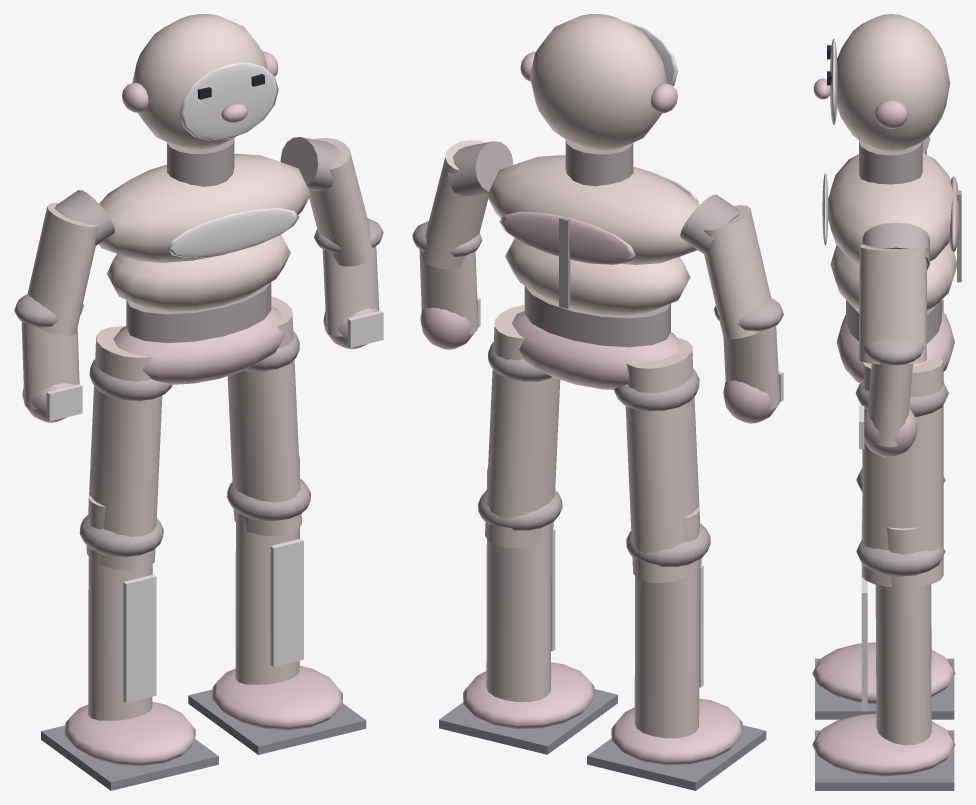
The model's file is CMU3DDisplayMannequinCloud.glb.
The picture shows the model from 3 angles, left to right: view 1: azimuth 30°, elevation 25°; view 2: azimuth 150°, elevation 25°; view 3: azimuth 270°, elevation 25°; orthographic projection.
Visible parts, largest first — view 1: wide shoulder torso, left molded upper leg, right molded upper leg, display head molded cranium, lower molded torso, left molded lower leg, right molded lower leg, molded pelvis lower shape, left upper molded arm, right broad static display foot, left broad static display foot, front face plane (+20 smaller); view 2: display head molded cranium, left molded upper leg, wide shoulder torso, right molded upper leg, left molded lower leg, right molded lower leg, lower molded torso, molded pelvis lower shape, left upper molded arm, left broad static display foot, right broad static display foot, waist narrow joint (+20 smaller); view 3: display head molded cranium, right molded upper leg, right molded lower leg, wide shoulder torso, right upper molded arm, right broad static display foot, left broad static display foot, right flattened foot bottom, right lower molded arm, lower molded torso, neck post, left flattened foot bottom (+13 smaller).
Boxes of the visible parts, bbox=[...] form: wide shoulder torso: bbox=[99, 153, 310, 262]; left molded upper leg: bbox=[86, 326, 162, 570]; right molded upper leg: bbox=[227, 296, 301, 536]; display head molded cranium: bbox=[132, 14, 267, 149]; lower molded torso: bbox=[107, 235, 290, 311]; left molded lower leg: bbox=[88, 495, 152, 720]; right molded lower leg: bbox=[235, 456, 299, 684]; molded pelvis lower shape: bbox=[113, 306, 285, 384]; left upper molded arm: bbox=[27, 202, 98, 335]; right broad static display foot: bbox=[212, 666, 342, 730]; left broad static display foot: bbox=[65, 701, 195, 766]; front face plane: bbox=[179, 62, 278, 140]; display head molded cranium: bbox=[530, 14, 667, 150]; left molded upper leg: bbox=[625, 337, 701, 583]; wide shoulder torso: bbox=[487, 155, 699, 264]; right molded upper leg: bbox=[485, 305, 560, 547]; left molded lower leg: bbox=[634, 507, 699, 738]; right molded lower leg: bbox=[486, 467, 551, 702]; lower molded torso: bbox=[505, 238, 690, 315]; molded pelvis lower shape: bbox=[511, 311, 681, 389]; left upper molded arm: bbox=[704, 205, 770, 339]; left broad static display foot: bbox=[611, 698, 742, 765]; right broad static display foot: bbox=[463, 662, 594, 729]; waist narrow joint: bbox=[524, 286, 670, 347]; display head molded cranium: bbox=[837, 14, 950, 152]; right molded upper leg: bbox=[862, 356, 943, 586]; right molded lower leg: bbox=[875, 527, 931, 745]; wide shoulder torso: bbox=[828, 153, 953, 264]; right upper molded arm: bbox=[859, 244, 927, 364]; right broad static display foot: bbox=[812, 713, 955, 776]; left broad static display foot: bbox=[812, 642, 955, 704]; right flattened foot bottom: bbox=[815, 730, 954, 790]; right lower molded arm: bbox=[867, 363, 912, 447]; lower molded torso: bbox=[830, 242, 956, 310]; neck post: bbox=[859, 140, 922, 184]; left flattened foot bottom: bbox=[815, 658, 954, 719].
Bounding box in the file's own units: 0.798 × 1.52 × 0.2873.
